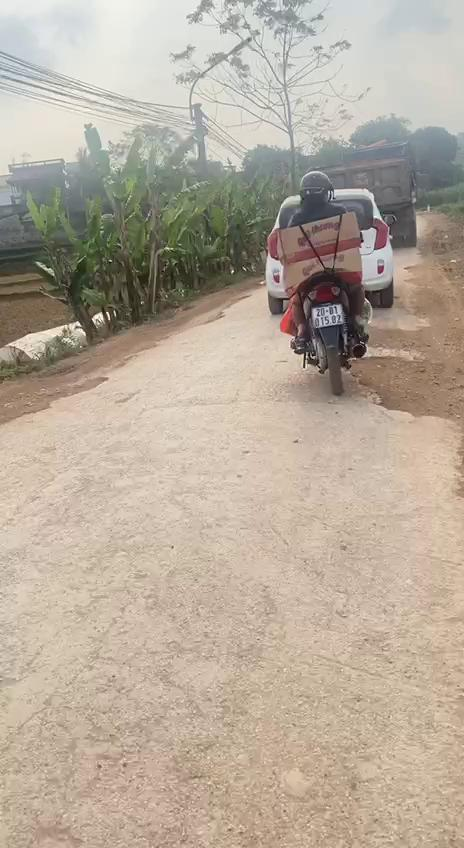pothole: (341, 350, 462, 428)
